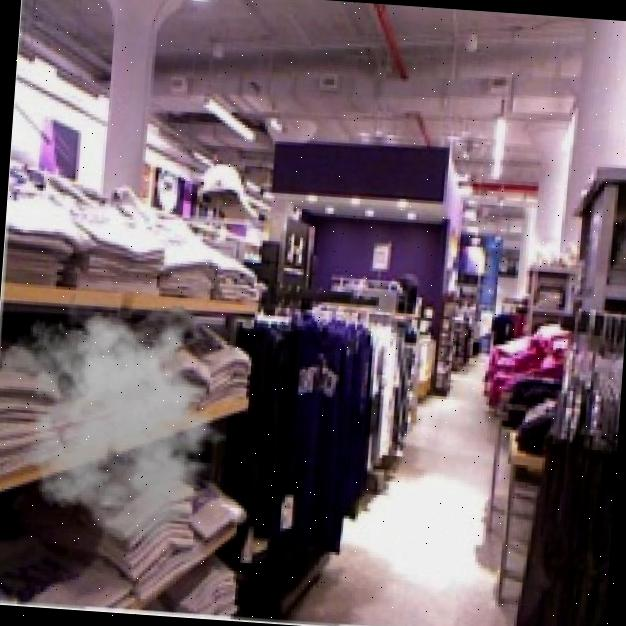smoke: (0, 289, 247, 551)
